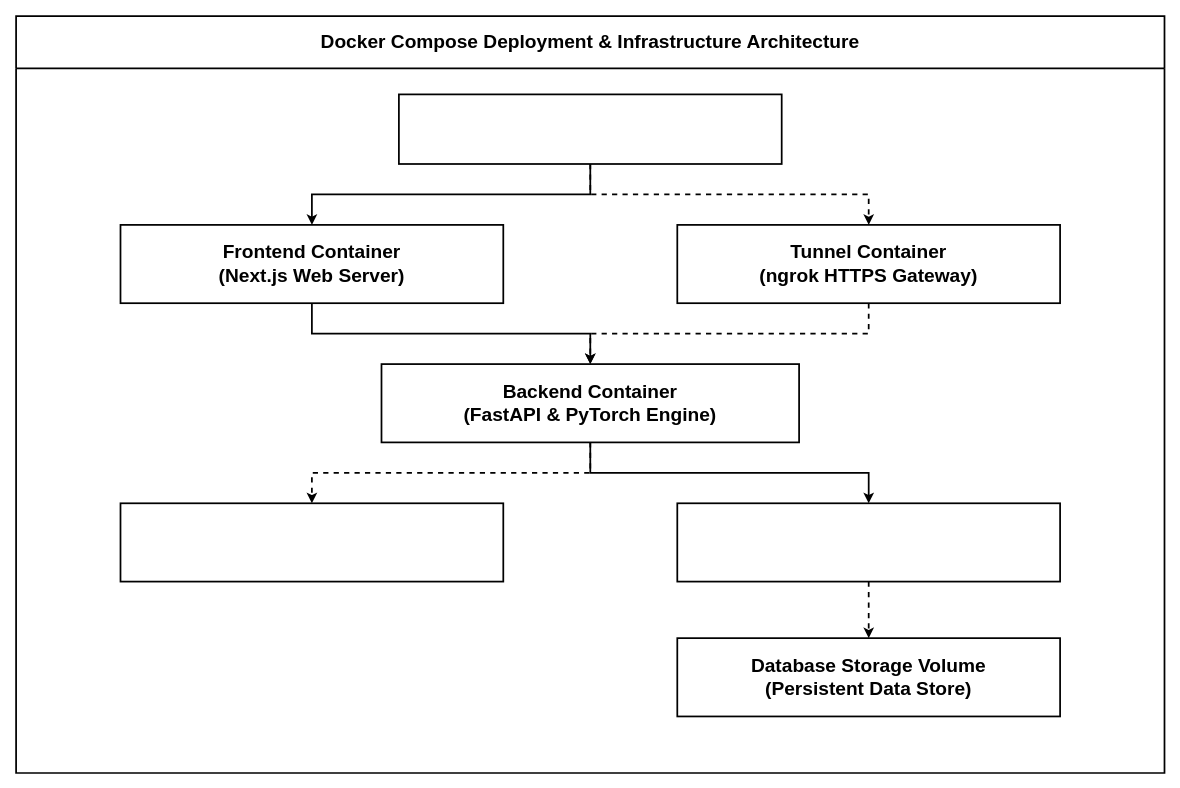
The diagram is 1180 pixels wide and 788 high, and some of its shapes have lost their labels. Here are the shapes that lost their labels. From the top down, the centre of each, then its label:
At pixel 590 128: "Client Web Browser".
At pixel 311 542: "Model Checkpoints Volume (Read-Only Model Store)".
At pixel 868 542: "Database Container (PostgreSQL & SQLAlchemy)".
